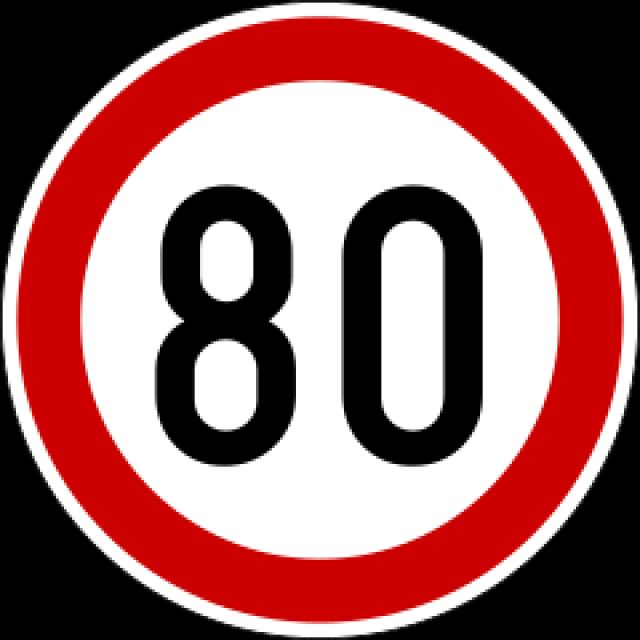Speed Limit -80-: (152, 183, 486, 470)
